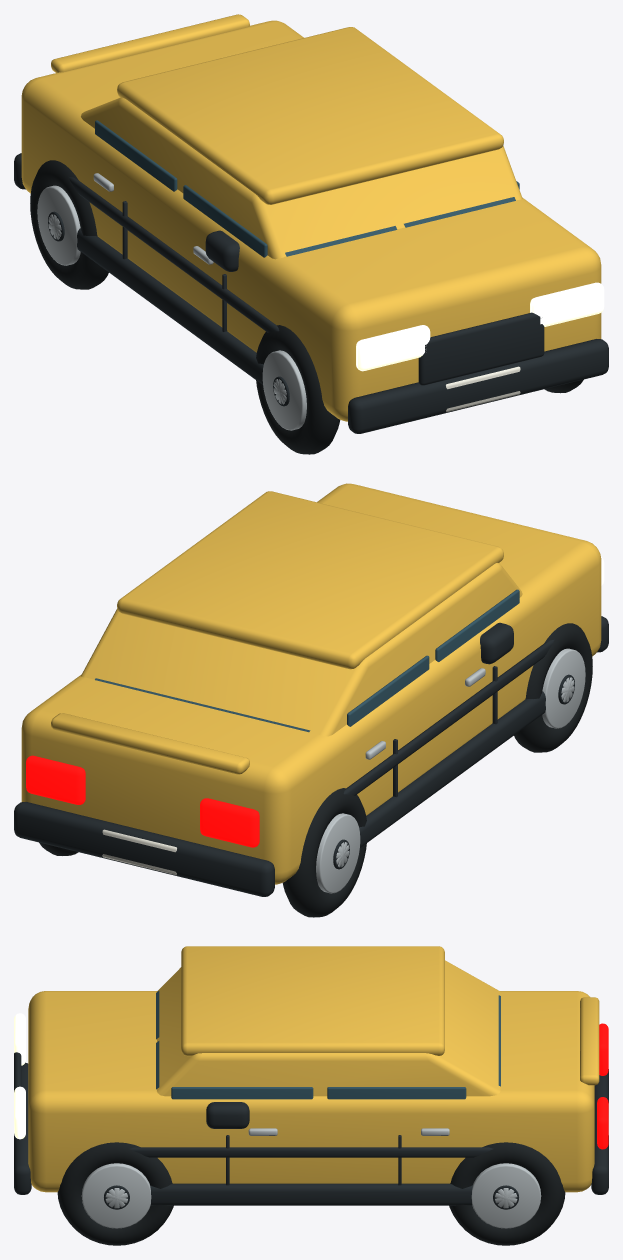
Rendered from citi-golf.glb.
3 views of the same model, one above another, from view 1: azimuth 30°, elevation 25°; view 2: azimuth 150°, elevation 25°; view 3: azimuth 270°, elevation 25° (orthographic). The views are drawn at different scales.
Parts seen in each view (by area): view 1: body, roof, cabin_shell, bumper_front, grille_surround, side_skirt_left, wheel_fl_tire, wheel_rl_tire, hatch_lip, rub_strip_left, wheel_fl_rim, headlight_left (+6 smaller); view 2: body, roof, cabin_shell, bumper_rear, side_skirt_left, wheel_rl_tire, hatch_lip, wheel_fl_tire, rub_strip_left, wheel_rl_rim, brakelight_left, brakelight_right (+6 smaller); view 3: body, roof, cabin_shell, side_skirt_right, wheel_fr_tire, wheel_rr_tire, rub_strip_right, wheel_fr_rim, wheel_rr_rim, window_right_front, window_right_rear, hatch_lip (+7 smaller).
Boxes of the visible parts, x1,y1,x2,y2 form: body: (21, 20, 601, 421); roof: (117, 27, 503, 204); cabin_shell: (81, 97, 522, 259); bumper_front: (348, 339, 608, 433); grille_surround: (418, 312, 544, 385); side_skirt_left: (77, 228, 263, 384); wheel_fl_tire: (256, 325, 340, 454); wheel_rl_tire: (30, 160, 108, 289); hatch_lip: (51, 14, 249, 72); rub_strip_left: (68, 176, 279, 332); wheel_fl_rim: (262, 350, 306, 430); headlight_left: (356, 325, 430, 371); body: (21, 483, 601, 884); roof: (117, 491, 503, 669); cabin_shell: (81, 563, 522, 736); bumper_rear: (14, 802, 274, 896); side_skirt_left: (359, 691, 545, 847); wheel_rl_tire: (282, 788, 366, 917); hatch_lip: (51, 713, 249, 774); wheel_fl_tire: (514, 623, 592, 752); rub_strip_left: (343, 639, 554, 795); wheel_rl_rim: (316, 813, 360, 893); brakelight_left: (200, 798, 259, 847); brakelight_right: (26, 755, 85, 804); body: (28, 991, 594, 1192); roof: (181, 946, 444, 1056); cabin_shell: (157, 960, 500, 1096); side_skirt_right: (150, 1183, 472, 1205); wheel_fr_tire: (57, 1142, 173, 1245); wheel_rr_tire: (449, 1142, 565, 1245); rub_strip_right: (129, 1147, 493, 1157); wheel_fr_rim: (81, 1163, 151, 1228); wheel_rr_rim: (471, 1163, 541, 1228); window_right_front: (171, 1087, 313, 1099); window_right_rear: (327, 1087, 466, 1099); hatch_lip: (580, 997, 599, 1085).
Size of the model in its own units: 1.8 by 1.35 by 3.7.
